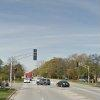Car: (53, 74, 71, 90)
